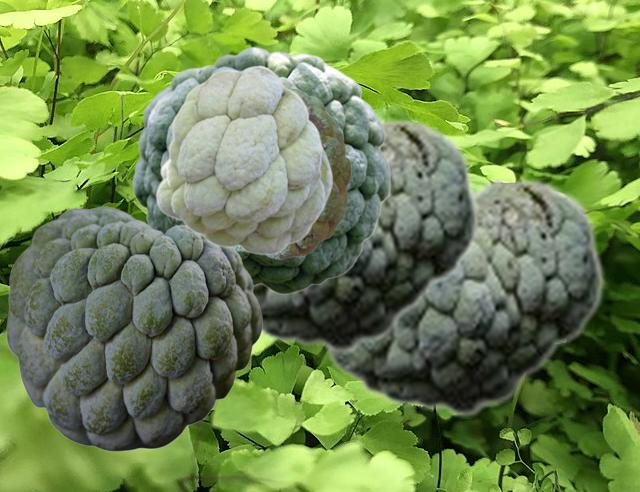atis: (318, 171, 604, 417), (132, 46, 390, 294), (6, 206, 261, 450), (254, 111, 479, 353), (155, 65, 332, 254), (233, 88, 350, 258)
